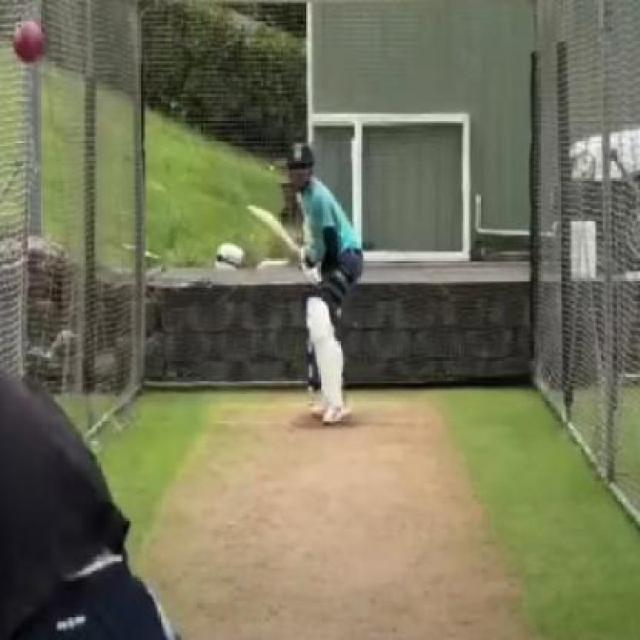ball: (12, 8, 51, 70)
